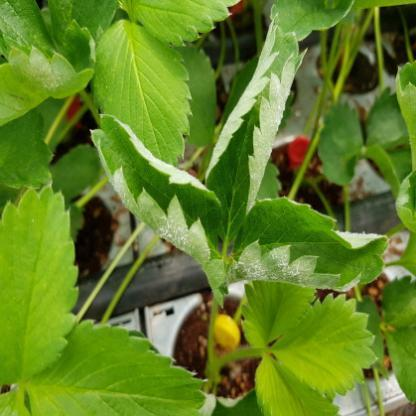Strawberry_Powdery_Mildew_Leaf: (204, 11, 309, 280), (90, 113, 226, 311), (225, 195, 390, 292), (0, 0, 98, 126)
